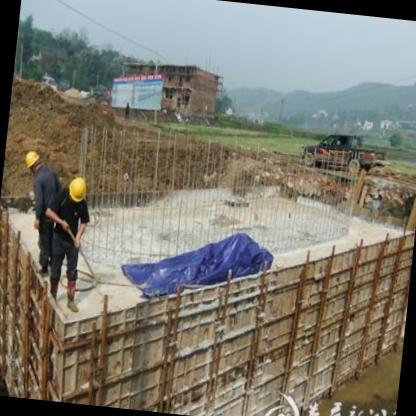helmet: (63, 173, 90, 210), (21, 146, 46, 179)
